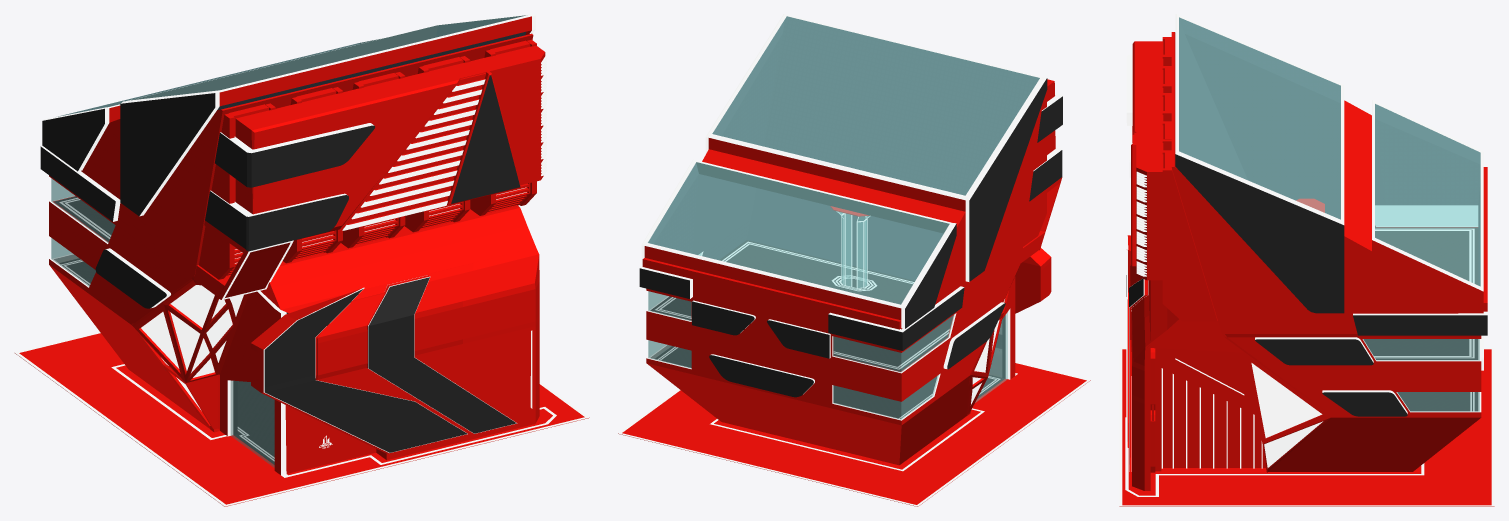
The model's file is Dhingia Builds 12 Size 2x2 Red.glb.
The picture shows the model from 3 angles, left to right: view 1: azimuth 30°, elevation 25°; view 2: azimuth 150°, elevation 25°; view 3: azimuth 270°, elevation 25°; orthographic projection. The views are drawn at different scales.
Visible parts, largest first — view 1: 0 main Building, Ground, Glass, InnerBox, Lights; view 2: 0 main Building, Glass, InnerBox, Ground, Lights, Lift Glass; view 3: 0 main Building, Glass, InnerBox, Ground, Lights.
Boxes of the visible parts, bbox=[...] form: 0 main Building: bbox=[40, 14, 546, 475]; Ground: bbox=[14, 331, 589, 506]; Glass: bbox=[51, 14, 529, 467]; InnerBox: bbox=[54, 15, 525, 464]; Lights: bbox=[59, 197, 556, 477]; 0 main Building: bbox=[639, 14, 1062, 465]; Glass: bbox=[645, 14, 1042, 419]; InnerBox: bbox=[648, 16, 1039, 418]; Ground: bbox=[618, 361, 1090, 506]; Lights: bbox=[655, 241, 1017, 471]; Lift Glass: bbox=[830, 206, 870, 287]; 0 main Building: bbox=[1126, 14, 1487, 490]; Glass: bbox=[1177, 15, 1482, 411]; InnerBox: bbox=[1179, 17, 1480, 411]; Ground: bbox=[1119, 348, 1494, 506]; Lights: bbox=[1125, 228, 1474, 496].
Size of what is drawn, in the model's own units: 32 by 32.41 by 32.
Materials: 7 (3 with a texture image).
